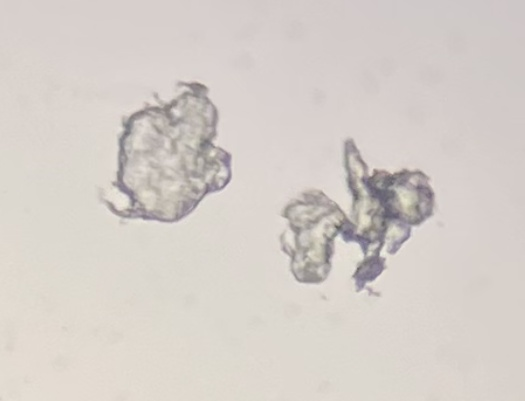microplastic: (279, 138, 435, 297), (99, 79, 232, 221)
